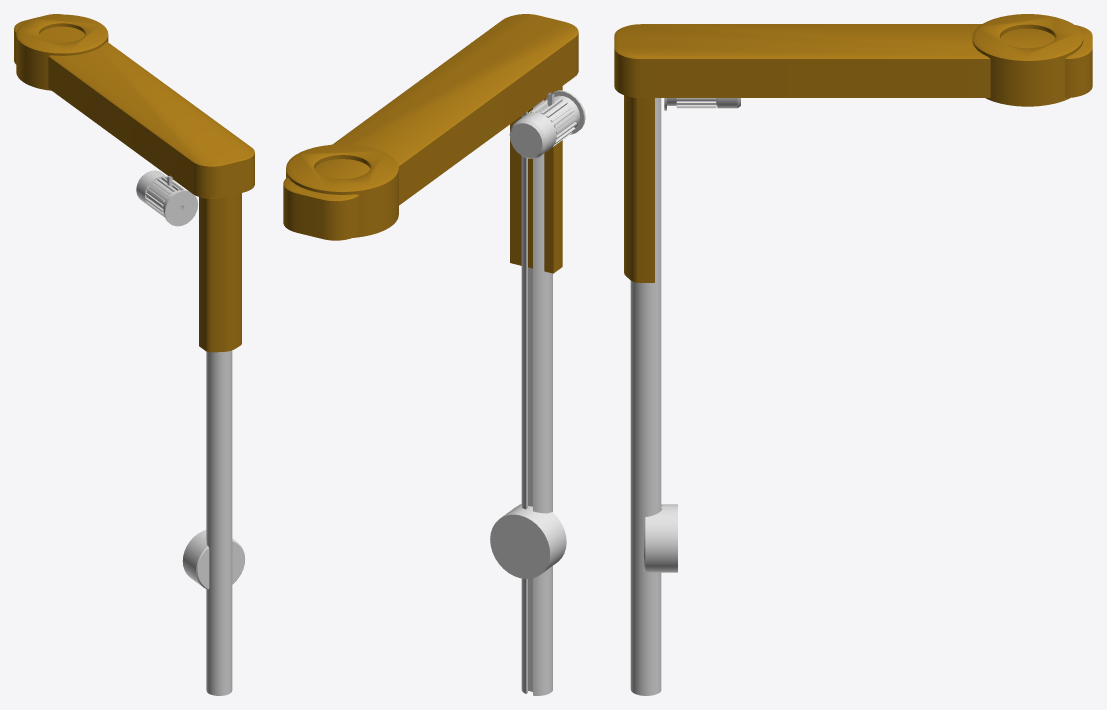
Rendered from 360_Arm.fbx.
3 views of the same model, side by side, from view 1: azimuth 30°, elevation 25°; view 2: azimuth 150°, elevation 25°; view 3: azimuth 270°, elevation 25° (orthographic). The views are drawn at different scales.
Parts seen in each view (by area): view 1: 360_arm; view 2: 360_arm; view 3: 360_arm.
Boxes of the visible parts, x1=… form: 360_arm: x1=14, y1=14, x2=254, y2=695; 360_arm: x1=283, y1=14, x2=585, y2=695; 360_arm: x1=614, y1=14, x2=1092, y2=695.
Bounding box in the file's own units: 0.3011 × 1.78 × 1.18.
